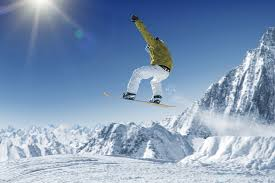snowboarder: (103, 12, 180, 109)
